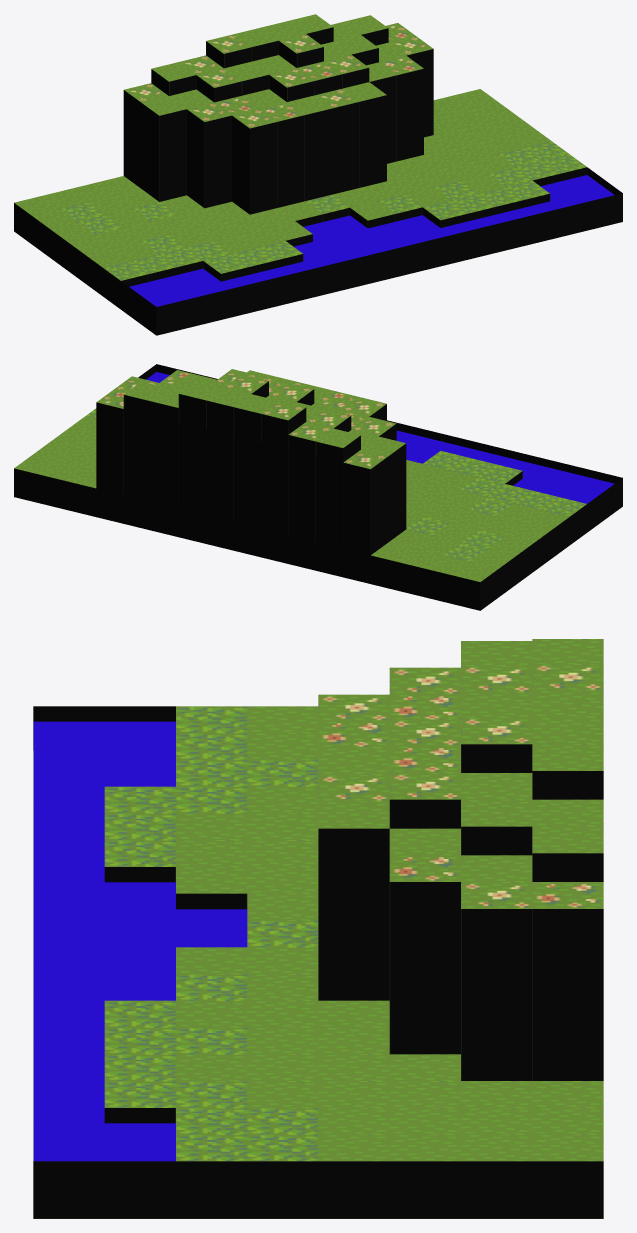
The model's file is level_02.glb.
3 renders of one model, top to bottom at view 1: azimuth 30°, elevation 25°; view 2: azimuth 150°, elevation 25°; view 3: azimuth 270°, elevation 25°, orthographic. The views are drawn at different scales.
Visible parts, largest first — view 1: Terrain, Water; view 2: Terrain, Water; view 3: Terrain, Water.
Boxes of the visible parts, left/top/right/bottom form: Terrain: left=14, top=14, right=622, bottom=335; Water: left=129, top=175, right=614, bottom=306; Terrain: left=14, top=364, right=622, bottom=610; Water: left=146, top=372, right=614, bottom=503; Terrain: left=33, top=639, right=603, bottom=1218; Water: left=33, top=721, right=247, bottom=1161.
Bounding box in the file's own units: 34 × 10 × 18.
Materials: 2 (1 with a texture image).
